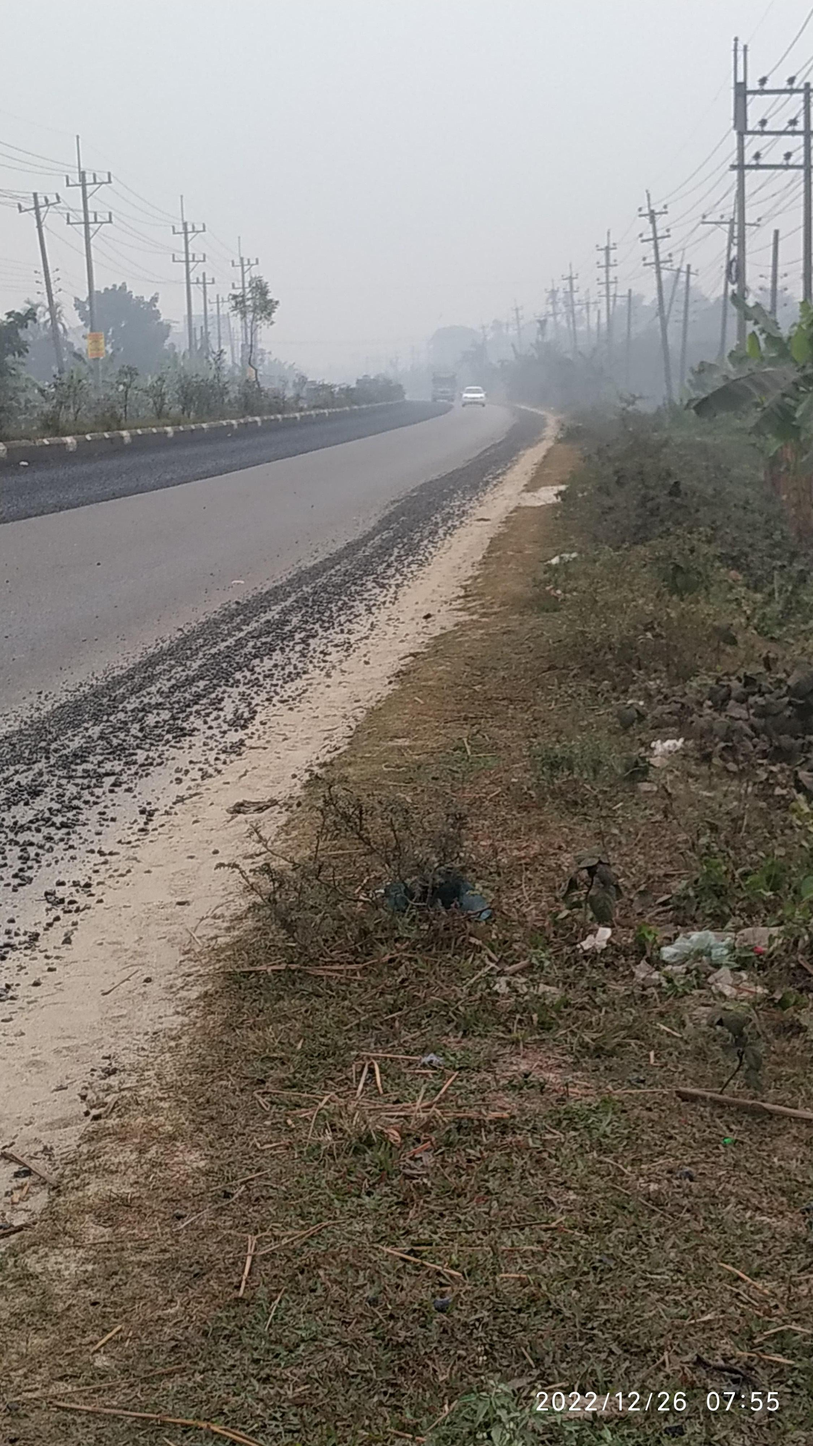Car: (443, 369, 501, 416)
